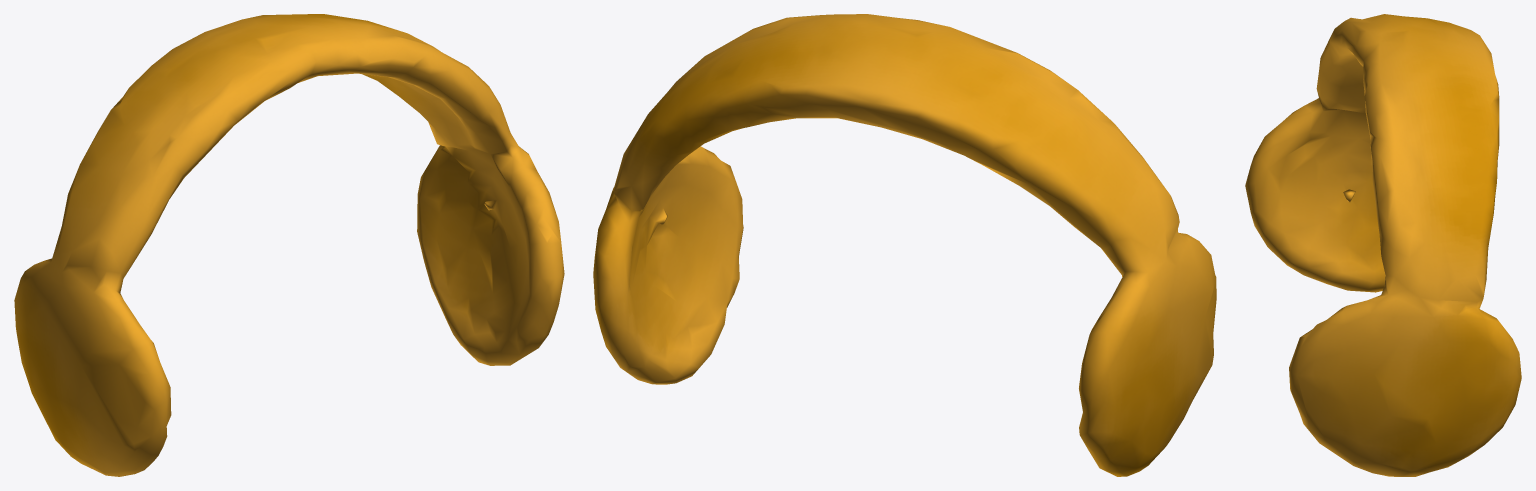
Rendered from gold headphones.glb.
The picture shows the model from 3 angles, left to right: view 1: azimuth 30°, elevation 25°; view 2: azimuth 150°, elevation 25°; view 3: azimuth 270°, elevation 25°; orthographic projection. The views are drawn at different scales.
Parts seen in each view (by area): view 1: headphones_gold.001; view 2: headphones_gold.001; view 3: headphones_gold.001.
Boxes of the visible parts, bbox=[...] form: headphones_gold.001: bbox=[14, 14, 564, 476]; headphones_gold.001: bbox=[593, 14, 1216, 476]; headphones_gold.001: bbox=[1245, 14, 1521, 476].
Size of the model in its own units: 0.3825 by 0.2787 by 0.2019.
1 material, 1 textured.
